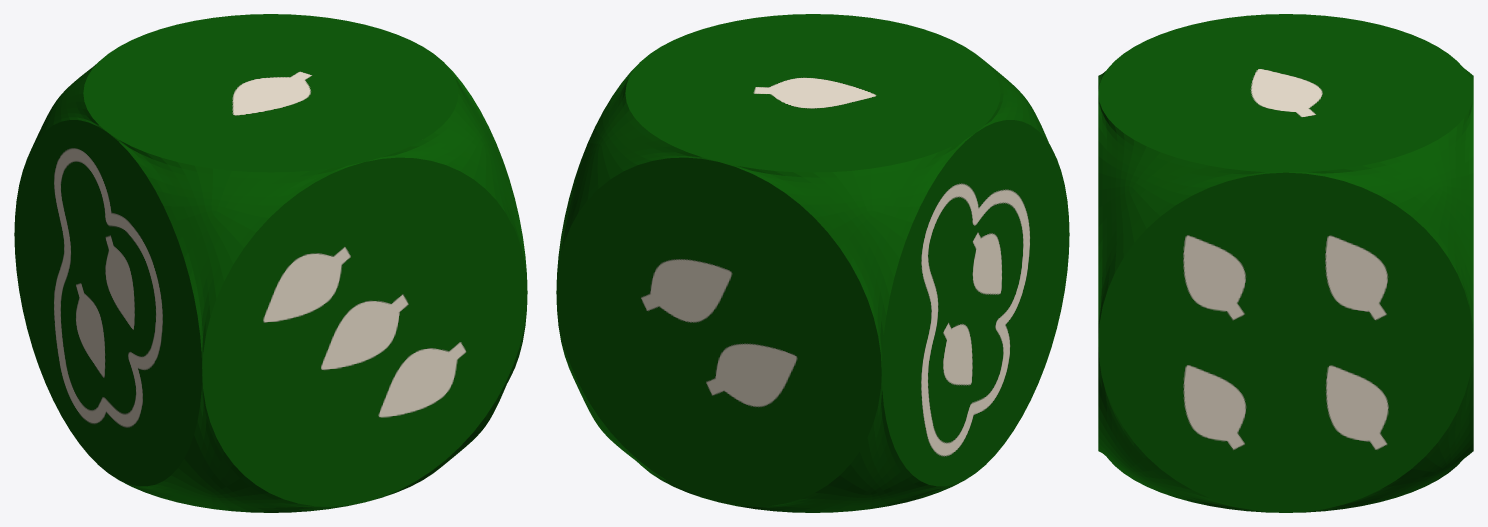
File: dado_verde.glb
The picture shows the model from 3 angles, left to right: view 1: azimuth 30°, elevation 25°; view 2: azimuth 150°, elevation 25°; view 3: azimuth 270°, elevation 25°; orthographic projection.
Parts seen in each view (by area): view 1: Cubo; view 2: Cubo; view 3: Cubo.
Part boxes in pixels (left/top/right/bottom): Cubo: left=14, top=14, right=527, bottom=512; Cubo: left=556, top=14, right=1069, bottom=512; Cubo: left=1098, top=14, right=1473, bottom=512.
Bounding box in the file's own units: 0.016 × 0.016 × 0.016.
Materials: 1 (1 with a texture image).
